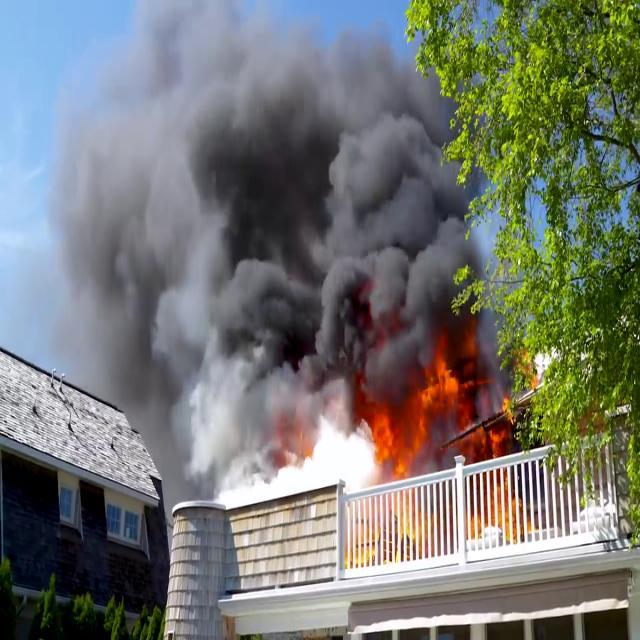Smoke: (86, 1, 530, 490)
